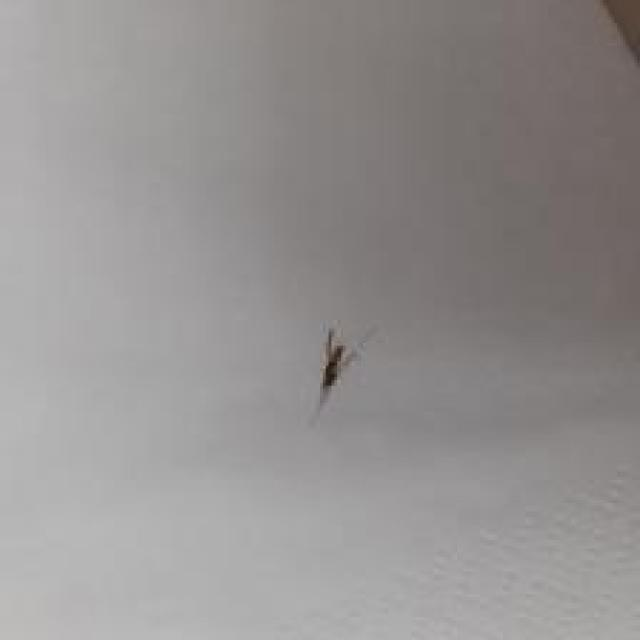Culex: (314, 326, 357, 408)
